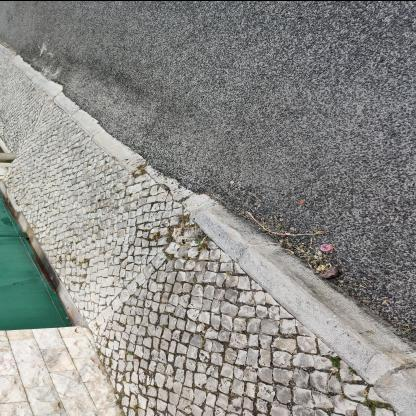plastik: (321, 244, 335, 252)
